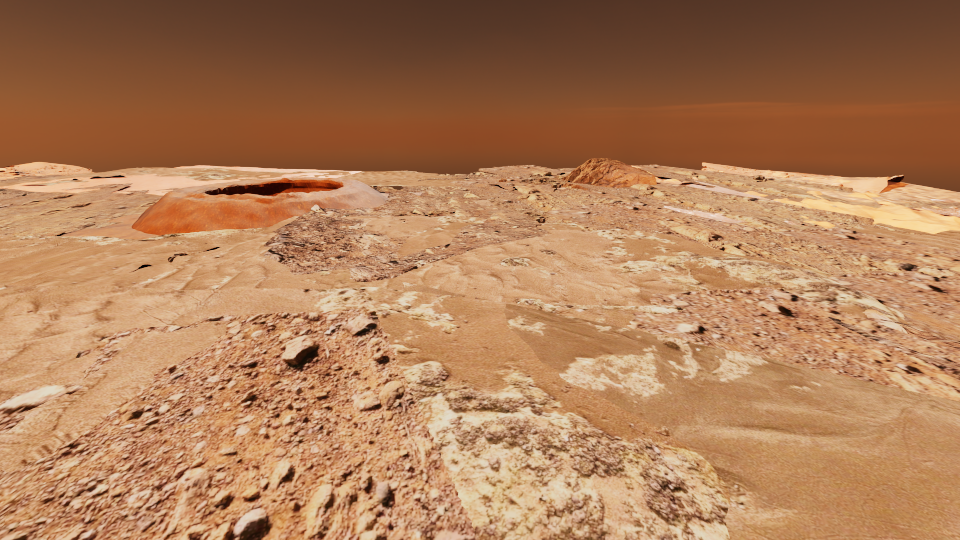bedrock: (264, 170, 571, 281), (180, 471, 384, 539), (829, 317, 959, 401), (627, 184, 844, 231), (658, 217, 803, 266), (668, 170, 848, 202), (0, 198, 124, 235), (863, 309, 959, 351), (64, 200, 157, 232), (0, 191, 106, 214), (907, 251, 959, 273), (168, 247, 219, 262), (421, 172, 500, 179), (0, 188, 38, 200), (1, 175, 61, 182), (935, 208, 959, 216), (577, 224, 596, 230), (931, 199, 958, 202), (753, 175, 766, 181), (555, 168, 575, 171), (615, 198, 631, 201), (497, 178, 506, 181)
rocks: (562, 158, 656, 187), (561, 183, 590, 189)
sand: (0, 216, 959, 539), (0, 165, 469, 195), (774, 181, 959, 251), (344, 215, 486, 254), (765, 177, 831, 184), (803, 221, 834, 227), (813, 177, 874, 179), (745, 191, 766, 195)
soil: (0, 310, 478, 539), (541, 164, 959, 340), (627, 288, 959, 388), (0, 177, 388, 238), (449, 165, 569, 211), (0, 383, 82, 434), (0, 192, 75, 209), (3, 163, 94, 175), (891, 199, 959, 213), (845, 201, 884, 207), (787, 172, 838, 176), (788, 198, 801, 202)
